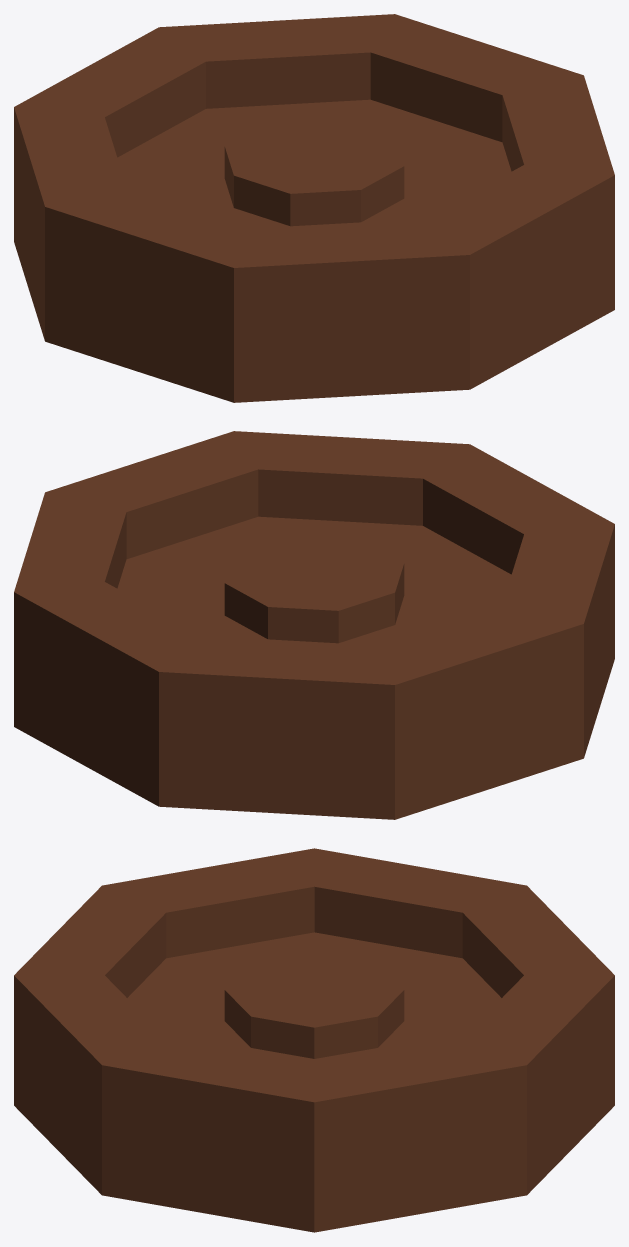
Rendered from coin_copper.glb.
3 views of the same model, one above another, from view 1: azimuth 30°, elevation 25°; view 2: azimuth 150°, elevation 25°; view 3: azimuth 270°, elevation 25° (orthographic). The views are drawn at different scales.
Parts seen in each view (by area): view 1: Cylinder.001; view 2: Cylinder.001; view 3: Cylinder.001.
Part boxes in pixels (x1=…): Cylinder.001: x1=14, y1=14, x2=614, y2=402; Cylinder.001: x1=14, y1=431, x2=614, y2=819; Cylinder.001: x1=14, y1=848, x2=614, y2=1232.
Bounding box in the file's own units: 0.1051 × 0.0251 × 0.1051.
